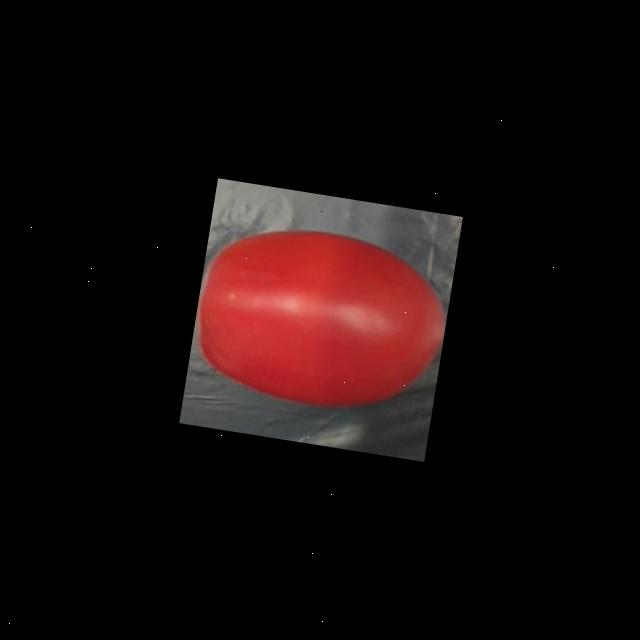tomato: (183, 205, 458, 428)
